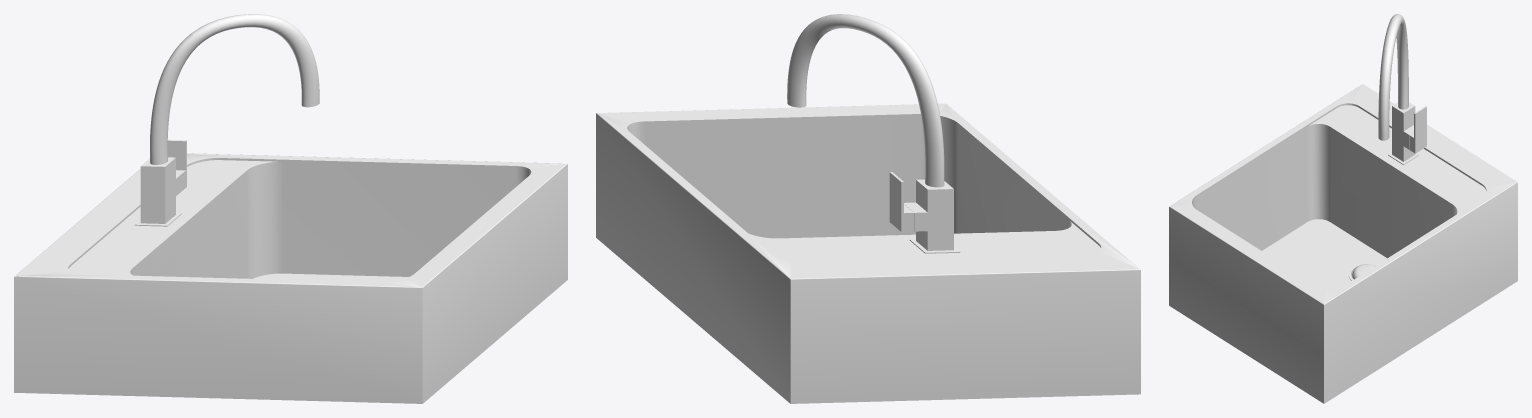
Rendered from sink4.glb.
3 renders of one model, left to right at view 1: azimuth 30°, elevation 25°; view 2: azimuth 150°, elevation 25°; view 3: azimuth 270°, elevation 25°, orthographic. The views are drawn at different scales.
Visible parts, largest first — view 1: sink_3; view 2: sink_3; view 3: sink_3.
Boxes of the visible parts, box(x1,y1,x2,y2) form: sink_3: box(14, 14, 567, 403); sink_3: box(596, 14, 1140, 403); sink_3: box(1169, 14, 1517, 403).
Size of the model in its own units: 143 by 85.21 by 95.46.
Materials: 1 (1 with a texture image).
